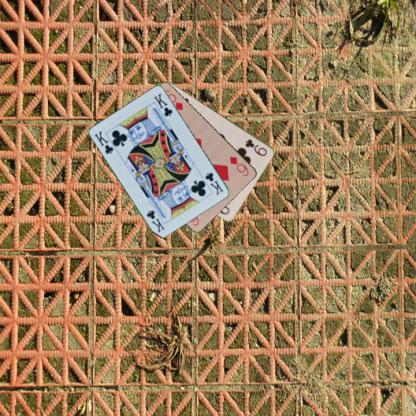6d: (227, 154, 250, 177)
9c: (242, 136, 268, 158)
Kc: (92, 128, 115, 156), (203, 170, 225, 196)
